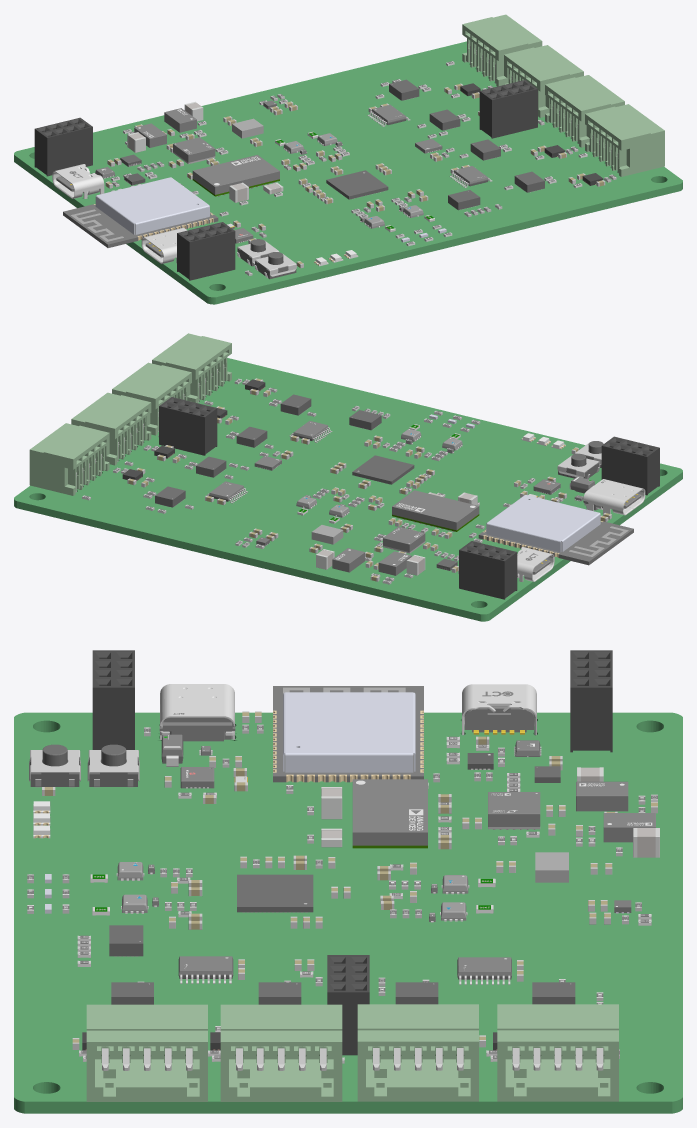
File: BugBusterMain.glb
The picture shows the model from 3 angles, top to bottom: view 1: azimuth 30°, elevation 25°; view 2: azimuth 150°, elevation 25°; view 3: azimuth 270°, elevation 25°; orthographic projection. The views are drawn at different scales.
Visible parts, largest first — view 1: Node17, Node11, Node20, Node12, Node32, Node14, Node1, Node4, Node5, Node34, Node10, Node6 (+7 smaller); view 2: Node17, Node11, Node20, Node12, Node32, Node14, Node1, Node4, Node5, Node34, Node10, Node6 (+6 smaller); view 3: Node17, Node11, Node12, Node20, Node32, Node14, Node4, Node1, Node5, Node43, Node34, Node31 (+10 smaller).
Boxes of the visible parts, <box> form: Node17: <box>14,41,682,304</box>; Node11: <box>462,14,664,176</box>; Node20: <box>34,80,537,280</box>; Node12: <box>56,104,488,257</box>; Node32: <box>95,106,446,242</box>; Node14: <box>120,79,544,210</box>; Node1: <box>63,61,615,247</box>; Node4: <box>52,111,492,263</box>; Node5: <box>123,61,616,278</box>; Node34: <box>106,84,603,267</box>; Node10: <box>111,61,615,275</box>; Node6: <box>111,83,605,275</box>; Node17: <box>14,358,682,621</box>; Node11: <box>29,333,231,495</box>; Node20: <box>159,397,659,599</box>; Node12: <box>209,420,641,575</box>; Node32: <box>265,414,600,552</box>; Node14: <box>155,394,457,570</box>; Node1: <box>83,379,633,565</box>; Node4: <box>205,427,645,581</box>; Node5: <box>82,378,611,584</box>; Node34: <box>128,378,610,581</box>; Node10: <box>82,379,562,584</box>; Node6: <box>127,378,563,574</box>; Node17: <box>14,712,682,1113</box>; Node11: <box>86,1004,618,1101</box>; Node12: <box>148,691,655,979</box>; Node20: <box>92,650,612,1055</box>; Node32: <box>45,692,629,913</box>; Node14: <box>109,766,575,1004</box>; Node4: <box>154,684,541,984</box>; Node1: <box>27,686,648,1058</box>; Node5: <box>27,711,657,1063</box>; Node43: <box>102,1048,603,1070</box>; Node34: <box>44,712,657,1042</box>; Node31: <box>30,744,138,786</box>.
Size of the model in its own units: 116 by 11.95 by 79.8.
